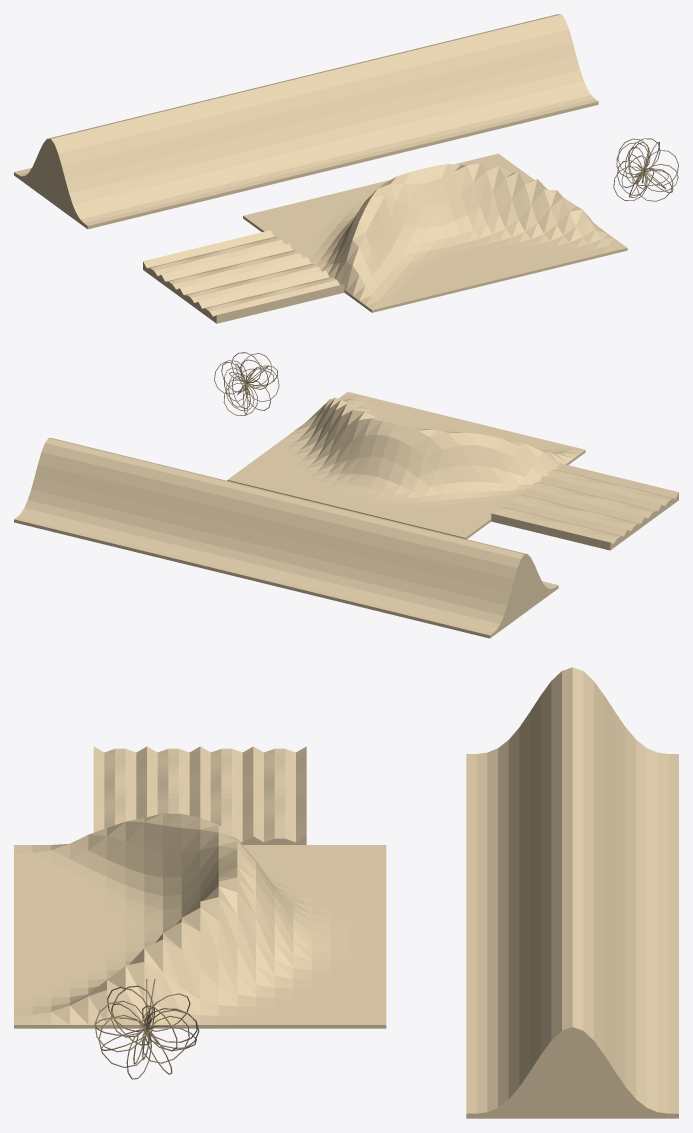
The model's file is desert-canyons-and-oases-dune-field-9a9af02a__21035.glb.
The picture shows the model from 3 angles, top to bottom: view 1: azimuth 30°, elevation 25°; view 2: azimuth 150°, elevation 25°; view 3: azimuth 270°, elevation 25°; orthographic projection. The views are drawn at different scales.
Visible parts, largest first — view 1: 002-barchan-dune/0, 000-transverse-dune-tile/0, 001-transverse-dune-tile/0, 003-sand-ripple-tile/0; view 2: 002-barchan-dune/0, 000-transverse-dune-tile/0, 001-transverse-dune-tile/0, 003-sand-ripple-tile/0; view 3: 002-barchan-dune/0, 001-transverse-dune-tile/0, 000-transverse-dune-tile/0, 003-sand-ripple-tile/0.
Part boxes in pixels (x1,y1,x2,y2): 002-barchan-dune/0: (243, 153, 627, 312); 000-transverse-dune-tile/0: (14, 76, 342, 229); 001-transverse-dune-tile/0: (303, 14, 598, 166); 003-sand-ripple-tile/0: (143, 230, 344, 323); 002-barchan-dune/0: (227, 392, 585, 538); 000-transverse-dune-tile/0: (252, 496, 558, 638); 001-transverse-dune-tile/0: (14, 438, 288, 580); 003-sand-ripple-tile/0: (491, 463, 678, 550); 002-barchan-dune/0: (14, 813, 386, 1028); 001-transverse-dune-tile/0: (466, 847, 678, 1118); 000-transverse-dune-tile/0: (466, 667, 678, 933); 003-sand-ripple-tile/0: (93, 746, 306, 844).
Size of the model in its own units: 16 by 1.9 by 12.5.
